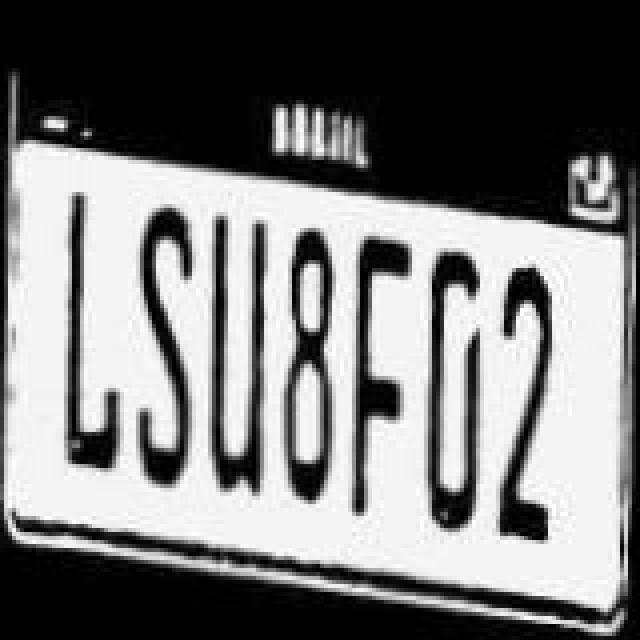2: (494, 266, 566, 542)
8: (282, 220, 342, 504)
D: (424, 244, 492, 532)
F: (344, 236, 416, 516)
L: (50, 186, 134, 478)
S: (132, 202, 196, 490)
U: (202, 210, 278, 502)
